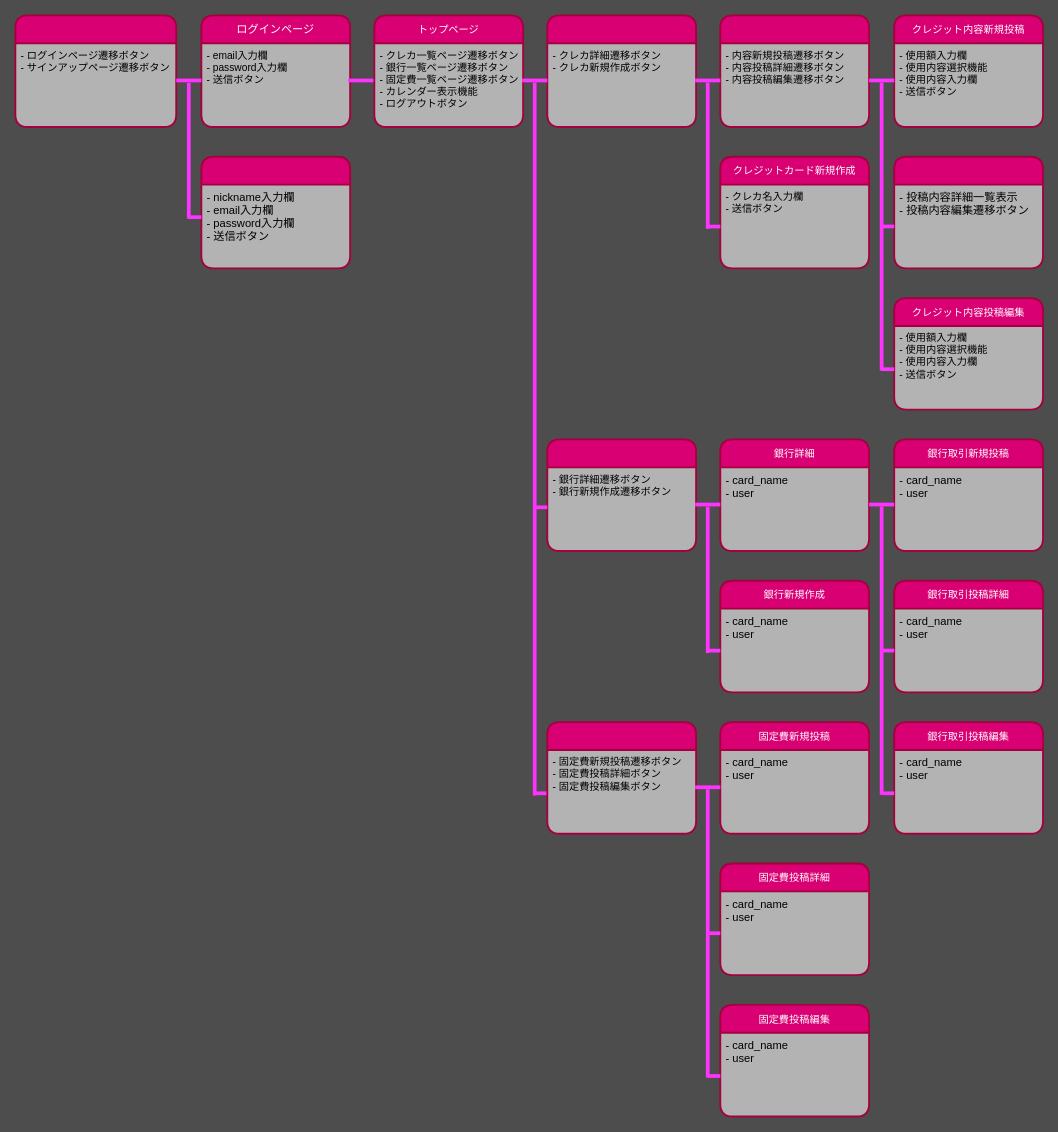
Some shapes in this 1058 by 1132 pixel diagram are drawn without their labels. The box of each missing label's shape, as (x1, y1, x2, y2) in pixels:
クレジットカード一覧: (546, 14, 697, 127)
クレジットカード詳細: (719, 14, 870, 127)
クレジット内容投稿詳細: (893, 155, 1043, 269)
サインアップページ: (200, 155, 351, 269)
ログイン/サインアップ選択ページ: (14, 14, 177, 127)
固定費ページ: (546, 721, 697, 834)
銀行一覧: (546, 438, 697, 551)
